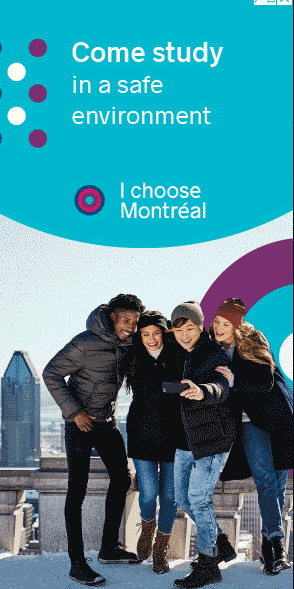person: (39, 288, 140, 586)
